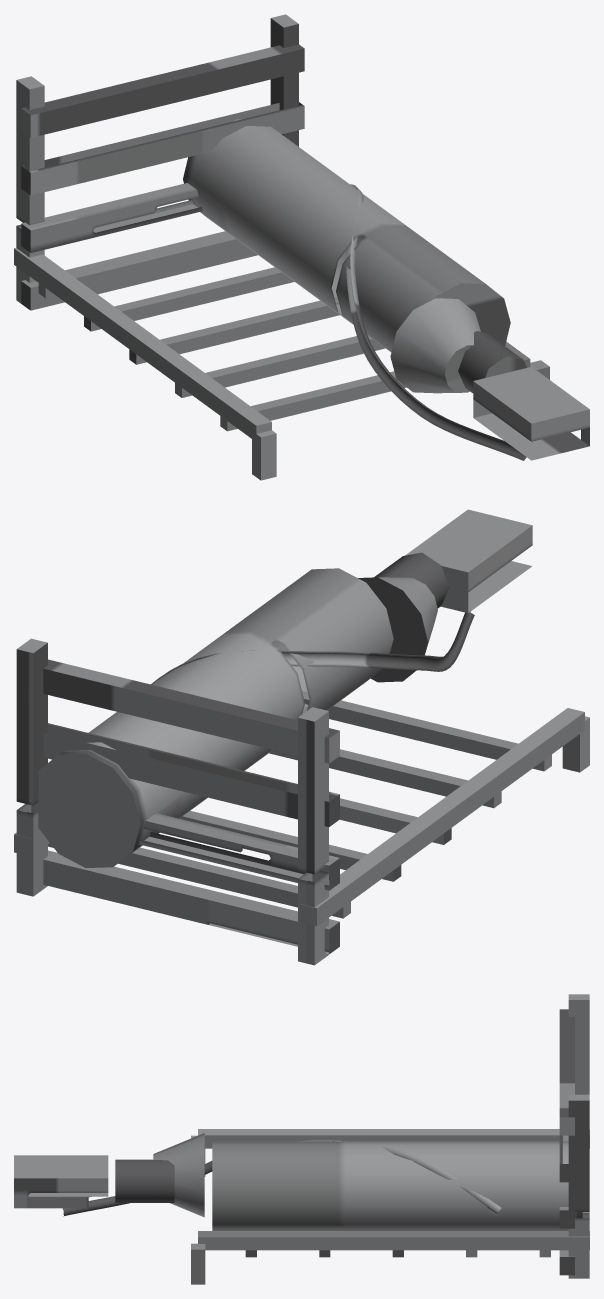
3 renders of one model, top to bottom at view 1: azimuth 30°, elevation 25°; view 2: azimuth 150°, elevation 25°; view 3: azimuth 270°, elevation 25°, orthographic. The views are drawn at different scales.
Size of the model in its own units: 0.5769 by 0.4175 by 1.22.
